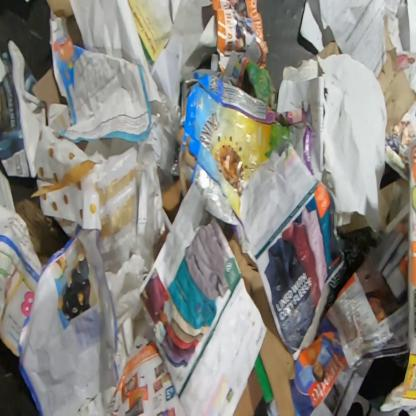cardboard: (162, 67, 315, 264), (228, 233, 298, 415), (0, 40, 48, 178), (14, 197, 72, 267), (30, 65, 68, 120), (232, 366, 268, 415)
rigid_plastic: (150, 89, 181, 144)
